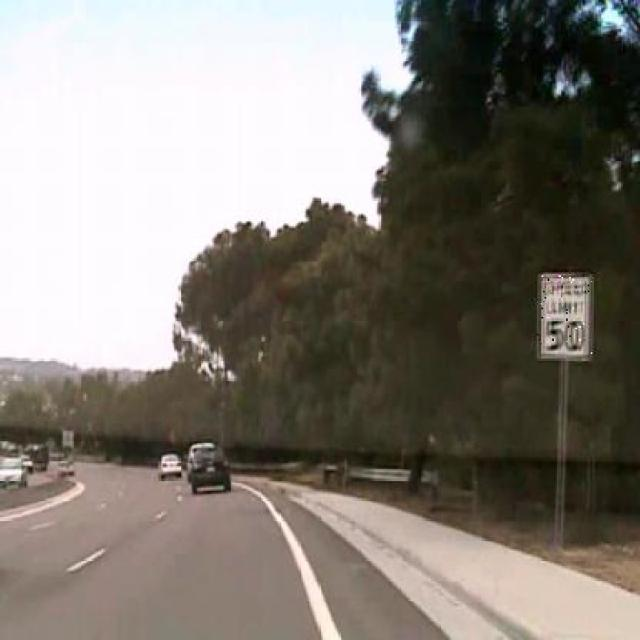speedLimit50: (535, 271, 594, 360)
